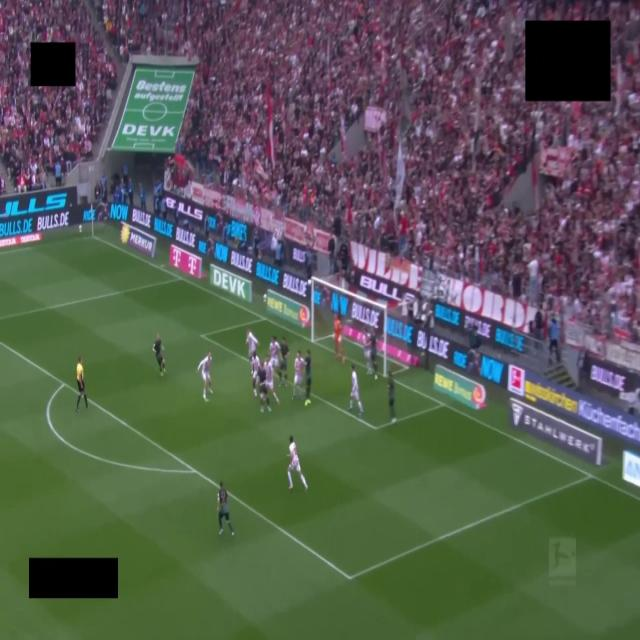player: (288, 436, 307, 491), (217, 481, 234, 536), (349, 365, 363, 415), (198, 352, 212, 401), (265, 360, 279, 405), (257, 367, 270, 412), (334, 314, 345, 363), (152, 334, 165, 375), (293, 351, 304, 399), (278, 336, 289, 384), (388, 372, 396, 423), (251, 352, 260, 397), (246, 329, 259, 359), (370, 329, 377, 379), (364, 332, 372, 375), (269, 336, 279, 370), (305, 350, 311, 406)
referee: (77, 357, 87, 411)
